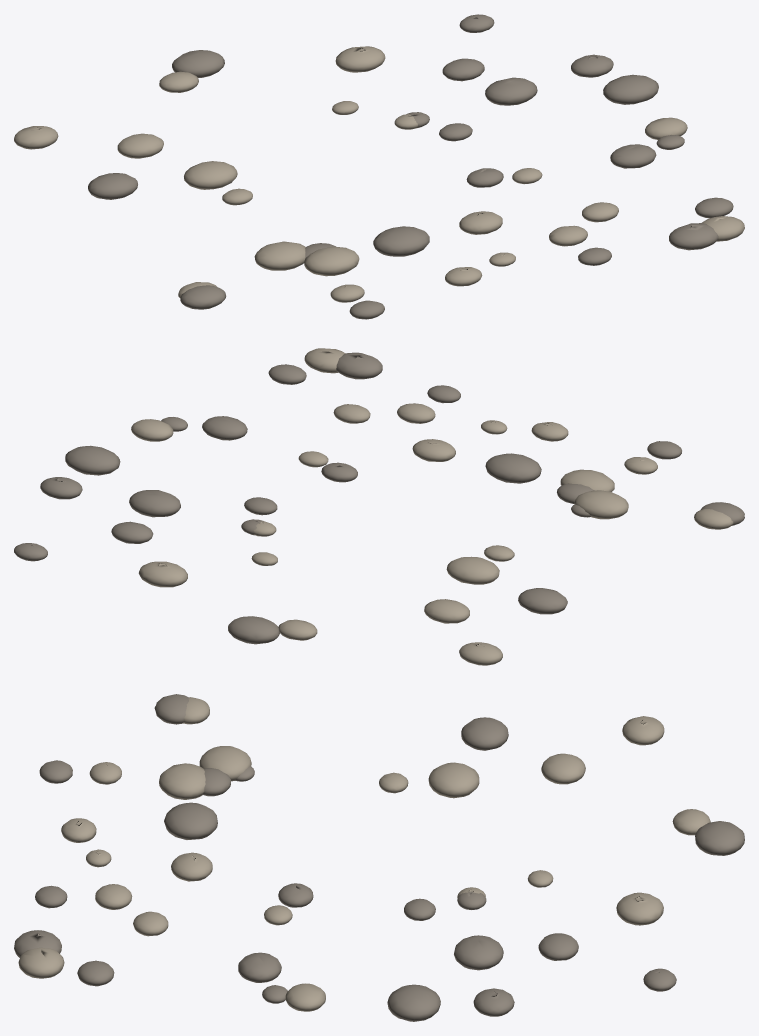
The model's file is f22-shingle-scatter.lod1.glb.
The picture shows the model from 3 angles, top to bottom: view 1: azimuth 30°, elevation 25°; view 2: azimuth 150°, elevation 25°; view 3: azimuth 270°, elevation 25°; orthographic projection. The views are drawn at different scales.
Parts seen in each view (by area): view 1: part1, part0; view 2: part1, part0; view 3: part1, part0.
Part boxes in pixels (x1,y1,x2,y2): part1: (88, 14, 733, 319); part0: (14, 46, 744, 302); part1: (14, 352, 744, 644); part0: (131, 348, 733, 665); part1: (14, 694, 744, 1021); part0: (18, 697, 710, 1011).
Bounding box in the file's own units: 2003 × 71.14 × 1929.
